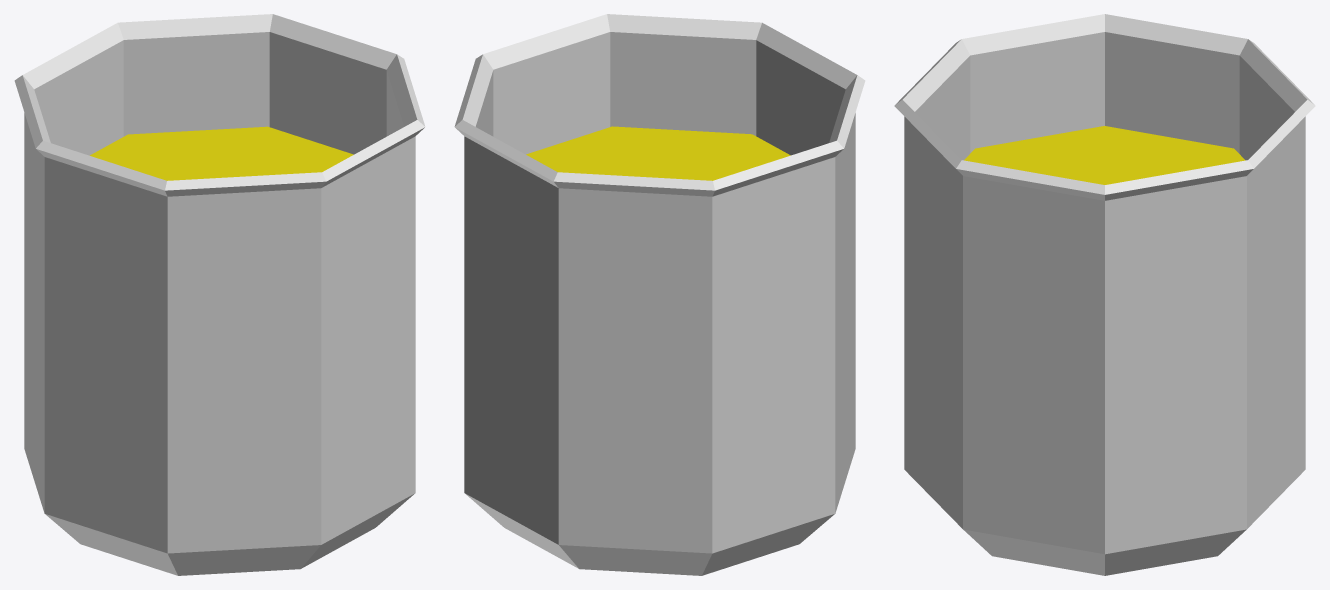
The model's file is Potion C.fbx.
3 views of the same model, side by side, from view 1: azimuth 30°, elevation 25°; view 2: azimuth 150°, elevation 25°; view 3: azimuth 270°, elevation 25° (orthographic).
Parts seen in each view (by area): view 1: Cylinder.035, Cylinder.036; view 2: Cylinder.035, Cylinder.036; view 3: Cylinder.035, Cylinder.036.
Part boxes in pixels (x1=…): Cylinder.035: x1=14, y1=14, x2=425, y2=575; Cylinder.036: x1=90, y1=126, x2=353, y2=180; Cylinder.035: x1=454, y1=14, x2=865, y2=575; Cylinder.036: x1=526, y1=126, x2=790, y2=180; Cylinder.035: x1=894, y1=14, x2=1315, y2=575; Cylinder.036: x1=964, y1=126, x2=1245, y2=184.
Bounding box in the file's own units: 33.32 × 35.66 × 33.32.
Materials: 2 (1 with a texture image).
